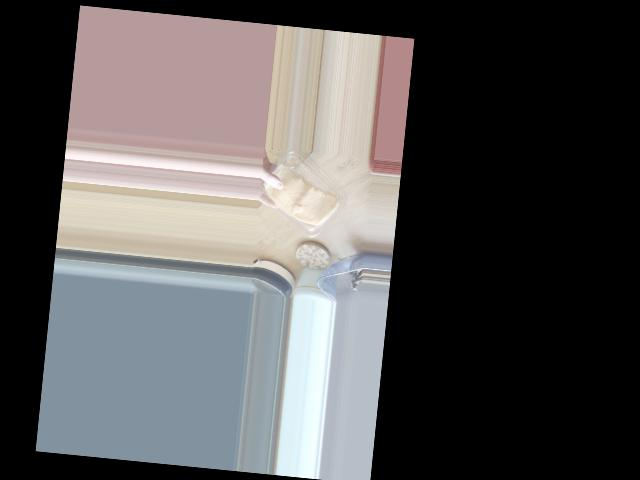cheese: (261, 150, 360, 248)
